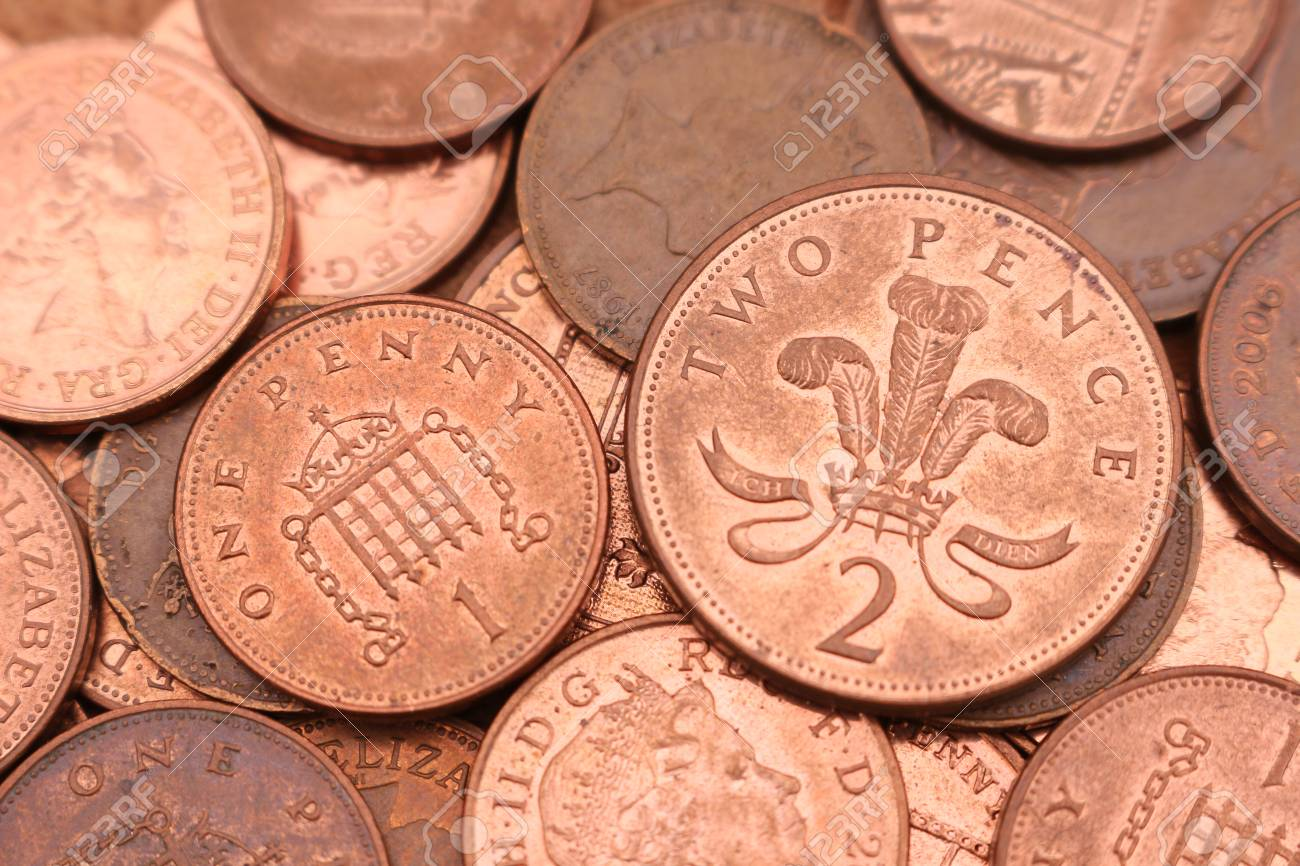norust: (4, 2, 1300, 866)
